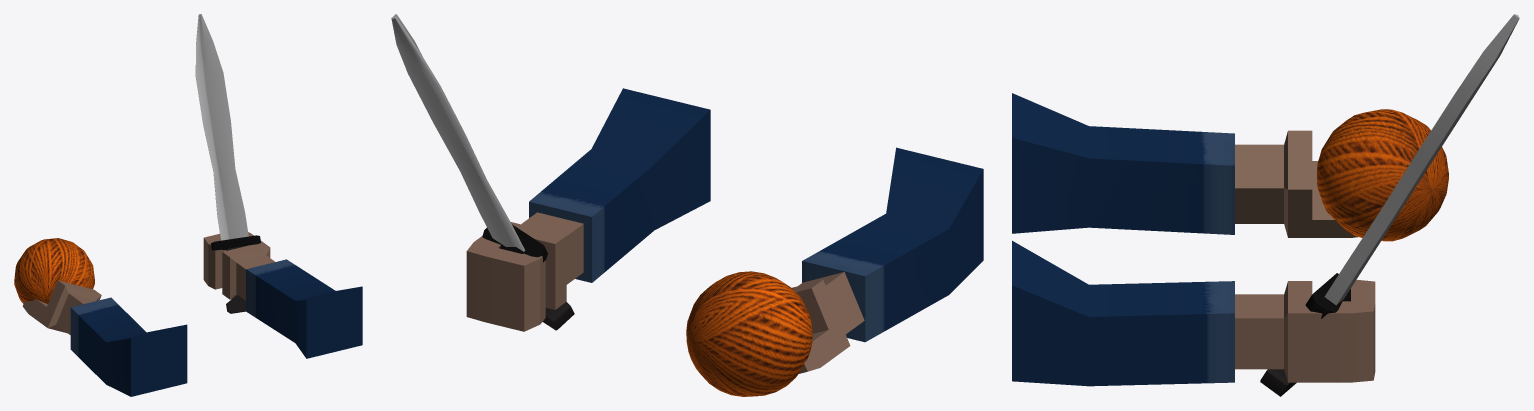
File: Arms.fbx
3 views of the same model, side by side, from view 1: azimuth 30°, elevation 25°; view 2: azimuth 150°, elevation 25°; view 3: azimuth 270°, elevation 25° (orthographic). The views are drawn at different scales.
Parts seen in each view (by area): view 1: arm (×2), blade, hand (×2), Tread, lock, handle; view 2: arm (×2), hand (×2), Tread, blade, lock, handle; view 3: arm (×2), hand (×2), Tread, blade, lock, handle.
Boxes of the visible parts, box(x1,y1,x2,y2) form: arm (×2): box(70, 259, 362, 396); blade: box(195, 14, 248, 240); hand (×2): box(22, 232, 274, 334); Tread: box(14, 238, 94, 303); lock: box(210, 235, 260, 250); handle: box(226, 246, 245, 313); arm (×2): box(529, 88, 983, 342); hand (×2): box(466, 212, 864, 373); Tread: box(686, 271, 812, 396); blade: box(391, 14, 525, 251); lock: box(482, 224, 547, 262); handle: box(542, 302, 574, 330); arm (×2): box(1012, 93, 1234, 386); hand (×2): box(1235, 130, 1375, 382); Tread: box(1317, 109, 1448, 241); blade: box(1324, 14, 1519, 305); lock: box(1305, 273, 1350, 318); handle: box(1260, 369, 1296, 396).
Size of the model in its own units: 336 by 334 by 388.
Materials: 1 (1 with a texture image).
